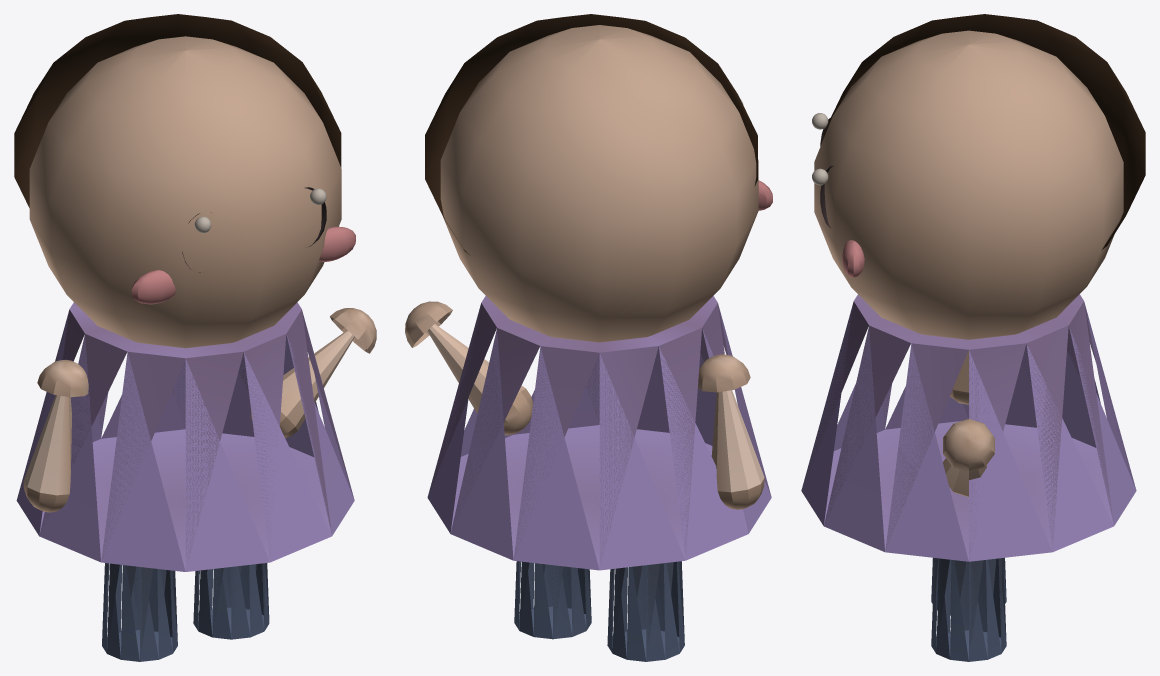
The picture shows the model from 3 angles, left to right: view 1: azimuth 30°, elevation 25°; view 2: azimuth 150°, elevation 25°; view 3: azimuth 270°, elevation 25°; orthographic projection. The views are drawn at different scales.
Visible parts, largest first — view 1: pet_p8d40ab47; view 2: pet_p8d40ab47; view 3: pet_p8d40ab47.
Boxes of the visible parts, box(x1,y1,x2,y2) form: pet_p8d40ab47: box(14, 14, 376, 661); pet_p8d40ab47: box(405, 14, 772, 661); pet_p8d40ab47: box(801, 14, 1145, 661).
Bounding box in the file's own units: 0.3783 × 0.625 × 0.3287.
